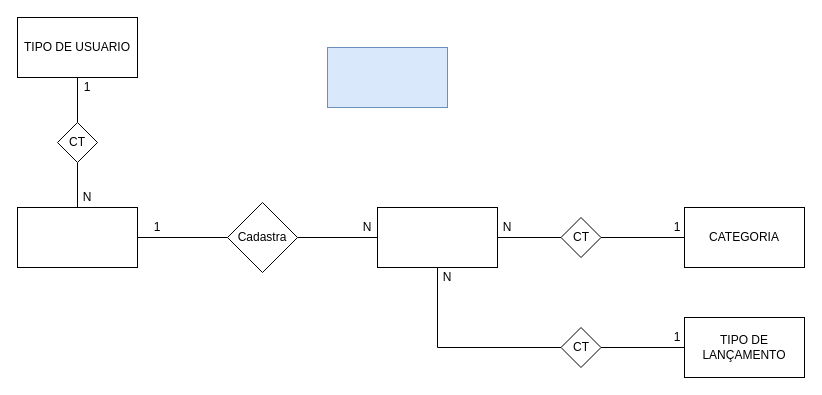
The diagram is 822 pixels wide and 395 high, and some of its shapes have lost their labels. Here are the shapes that lost their labels. From the top down, the centre of each, then its label:
At point 387,77: "CONCEITUAL".
At point 77,237: "USUÁRIO".
At point 437,237: "LANÇAMENTO".
